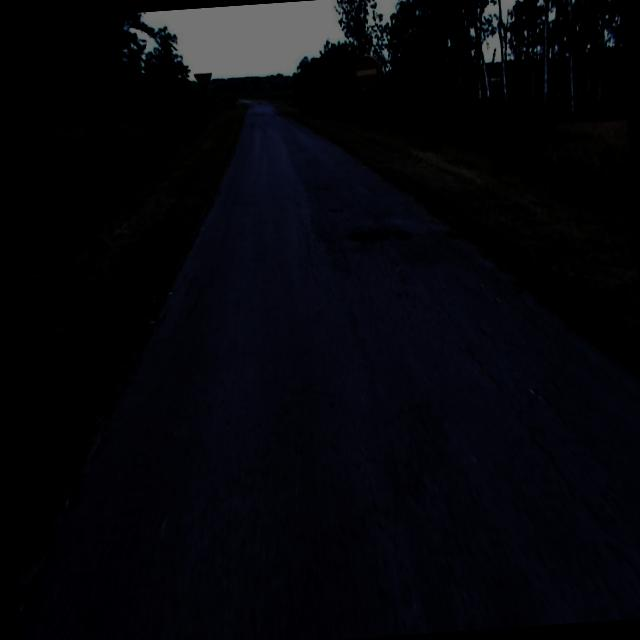road: (20, 99, 640, 640)
